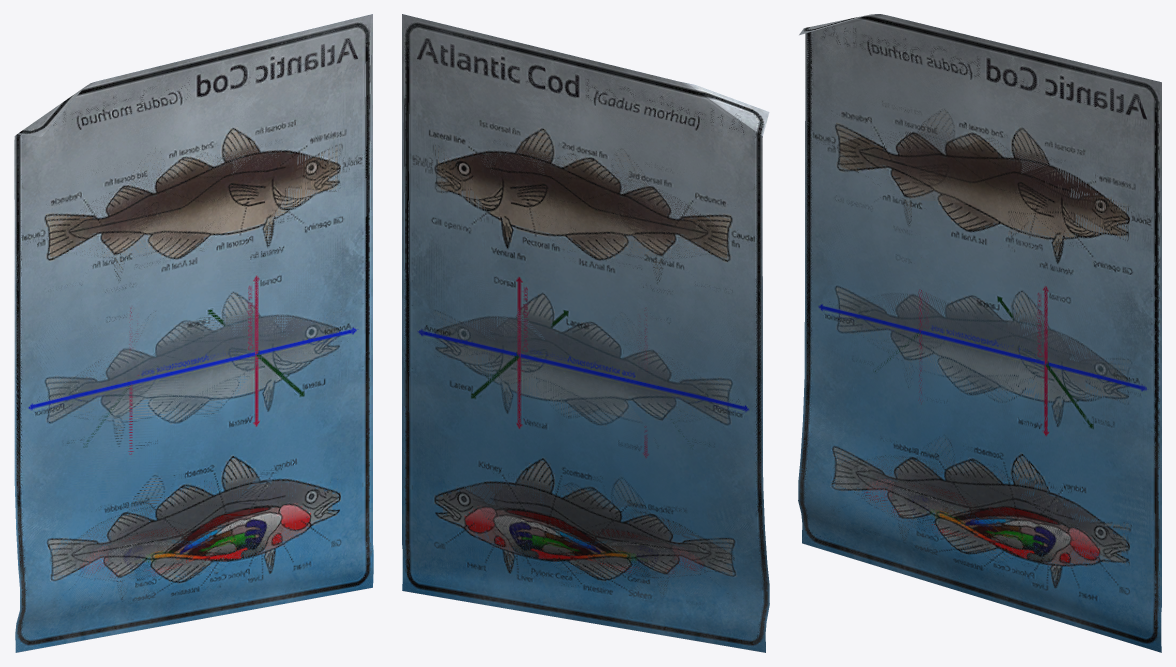
The model's file is posters_biolab_cod.dae.
3 renders of one model, left to right at view 1: azimuth 30°, elevation 25°; view 2: azimuth 150°, elevation 25°; view 3: azimuth 330°, elevation 25°, orthographic.
Parts seen in each view (by area): view 1: cod; view 2: cod; view 3: cod.
Part boxes in pixels (x1=…): cod: x1=14, y1=14, x2=373, y2=652; cod: x1=402, y1=14, x2=769, y2=652; cod: x1=798, y1=14, x2=1161, y2=652.
Bounding box in the file's own units: 0.6558 × 1 × 0.0545.
